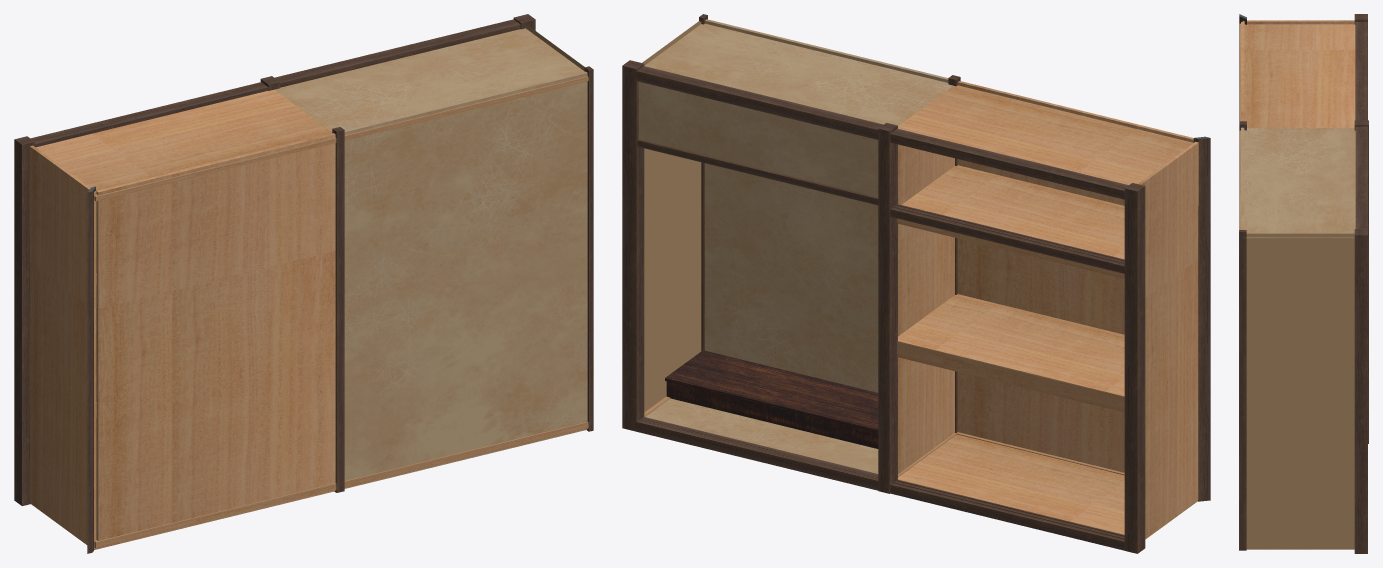
File: inwall_toko_6t_c.fbx
3 renders of one model, left to right at view 1: azimuth 30°, elevation 25°; view 2: azimuth 150°, elevation 25°; view 3: azimuth 270°, elevation 25°, orthographic. The views are drawn at different scales.
Visible parts, largest first — view 1: inwall_toko_6t_c; view 2: inwall_toko_6t_c; view 3: inwall_toko_6t_c.
Part boxes in pixels (x1,y1,x2,y2): inwall_toko_6t_c: [14, 14, 593, 553]; inwall_toko_6t_c: [622, 14, 1210, 553]; inwall_toko_6t_c: [1239, 14, 1368, 553].
Bounding box in the file's own units: 440 × 296 × 109.
